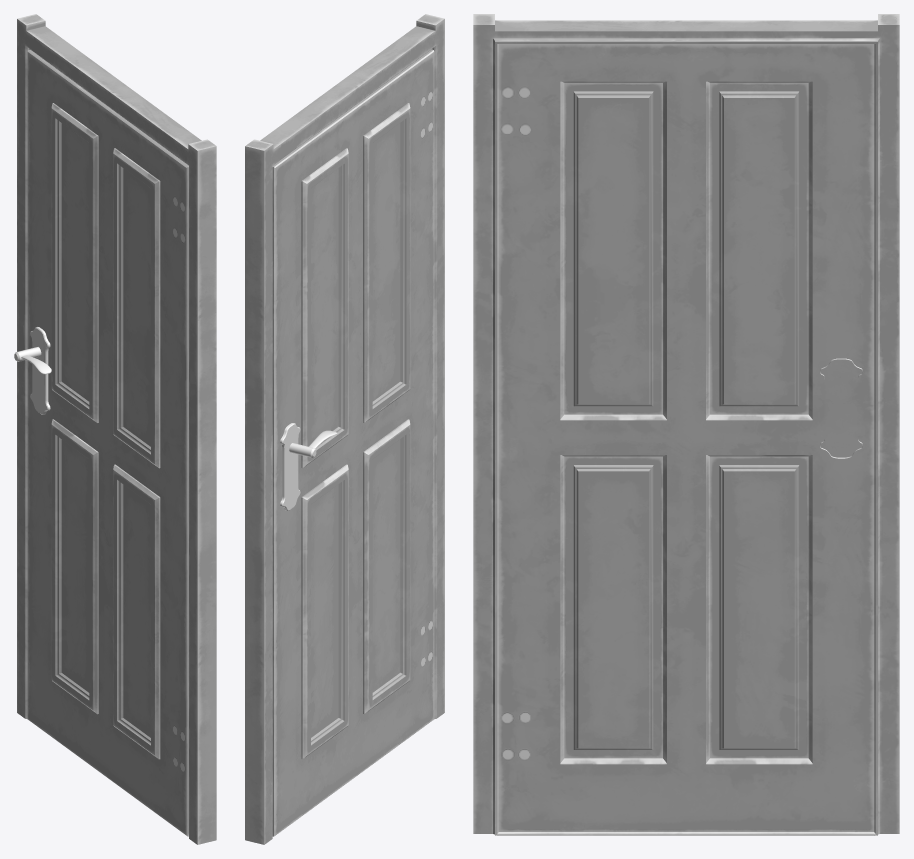
Rendered from door.gltf.
3 views of the same model, side by side, from view 1: azimuth 30°, elevation 25°; view 2: azimuth 150°, elevation 25°; view 3: azimuth 270°, elevation 25° (orthographic). The views are drawn at different scales.
Visible parts, largest first — view 1: Door_Default_0; view 2: Door_Default_0; view 3: Door_Default_0.
Part boxes in pixels (x1,y1,x2,y2): Door_Default_0: (14,14,216,844); Door_Default_0: (245,14,444,844); Door_Default_0: (473,14,899,835).
Bounding box in the file's own units: 14.01 × 207 × 97.41.
Materials: 1 (1 with a texture image).
